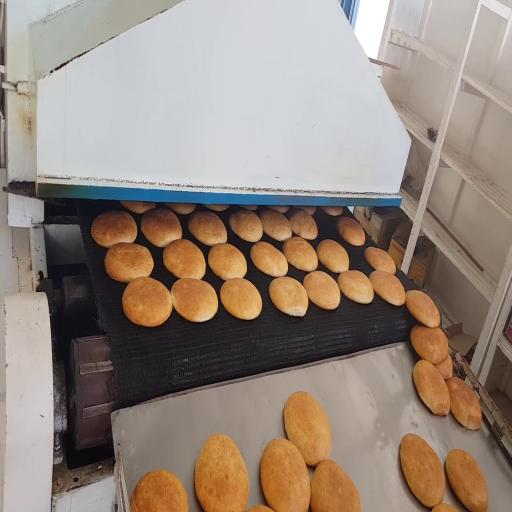bread: (195, 434, 249, 511), (261, 439, 310, 511), (284, 392, 331, 466), (400, 434, 445, 507), (446, 449, 488, 511), (311, 460, 361, 511), (122, 277, 172, 327), (130, 470, 188, 511), (413, 360, 450, 415), (171, 279, 218, 322), (105, 243, 153, 282), (446, 377, 482, 429), (220, 278, 262, 319), (163, 239, 205, 279), (91, 211, 137, 247), (141, 209, 182, 247), (269, 277, 308, 316), (411, 325, 448, 365), (303, 271, 340, 310), (208, 244, 247, 280), (188, 212, 227, 246), (369, 271, 405, 306), (406, 290, 440, 327), (251, 242, 288, 276), (283, 237, 317, 272), (338, 270, 373, 303), (317, 239, 349, 273), (229, 210, 263, 242), (259, 210, 292, 241), (288, 209, 318, 239), (365, 247, 396, 274), (337, 217, 365, 246), (120, 201, 156, 214), (436, 354, 453, 380), (165, 203, 196, 215), (322, 206, 343, 216), (432, 503, 458, 511), (297, 206, 315, 215), (204, 205, 229, 211), (268, 206, 289, 213), (247, 505, 271, 511), (240, 205, 258, 211)
